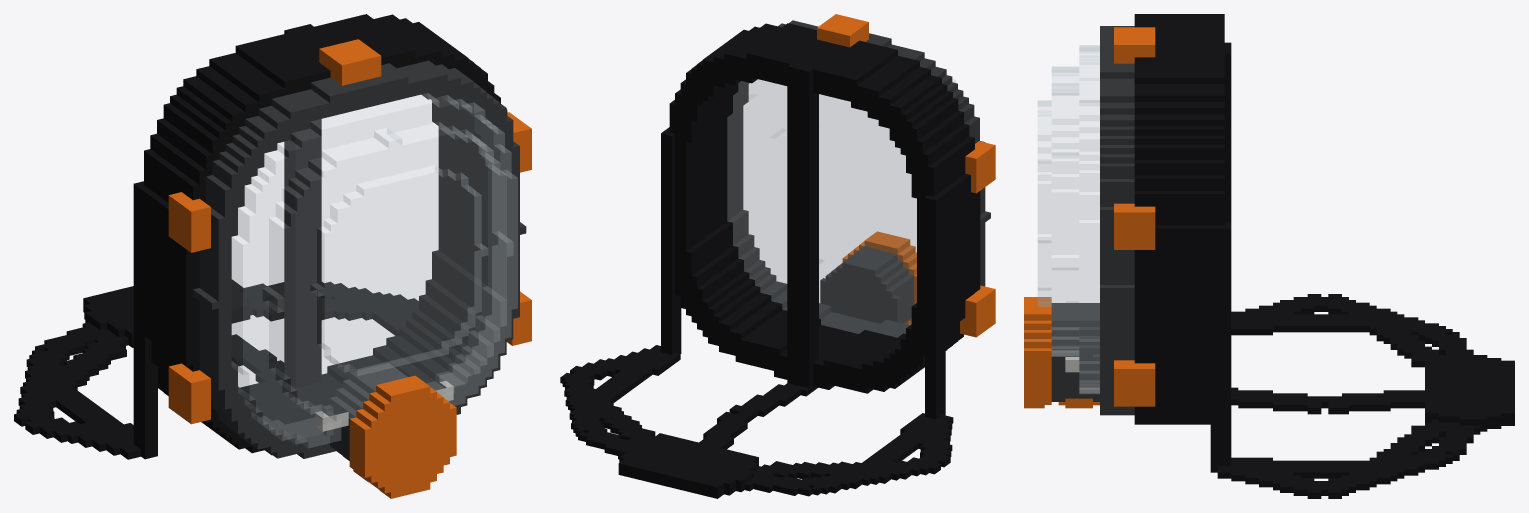
The model's file is divemask_full_modular.glb.
The picture shows the model from 3 angles, left to right: view 1: azimuth 30°, elevation 25°; view 2: azimuth 150°, elevation 25°; view 3: azimuth 270°, elevation 25°; orthographic projection. The views are drawn at different scales.
Visible parts, largest first — view 1: divemask_full_modular:compound; view 2: divemask_full_modular:compound; view 3: divemask_full_modular:compound.
Boxes of the visible parts, x1=… form: divemask_full_modular:compound: x1=14, y1=14, x2=531, y2=498; divemask_full_modular:compound: x1=560, y1=14, x2=995, y2=498; divemask_full_modular:compound: x1=1024, y1=14, x2=1514, y2=498.
Bounding box in the file's own units: 0.272 × 0.232 × 0.284.
